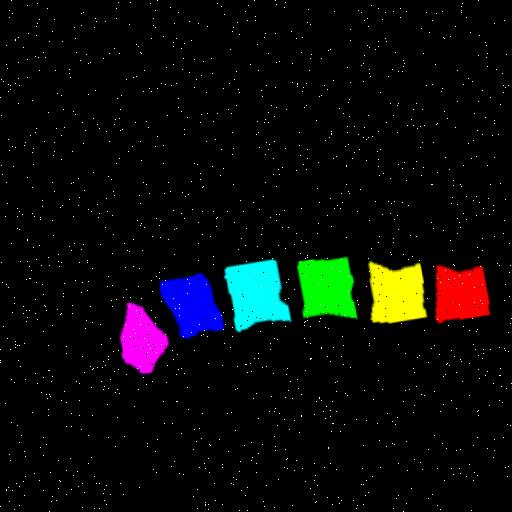L1: (428, 271, 482, 329)
L2: (361, 267, 418, 328)
L3: (292, 263, 350, 323)
L4: (219, 263, 284, 334)
L5: (155, 277, 216, 341)
S1: (113, 304, 162, 375)
